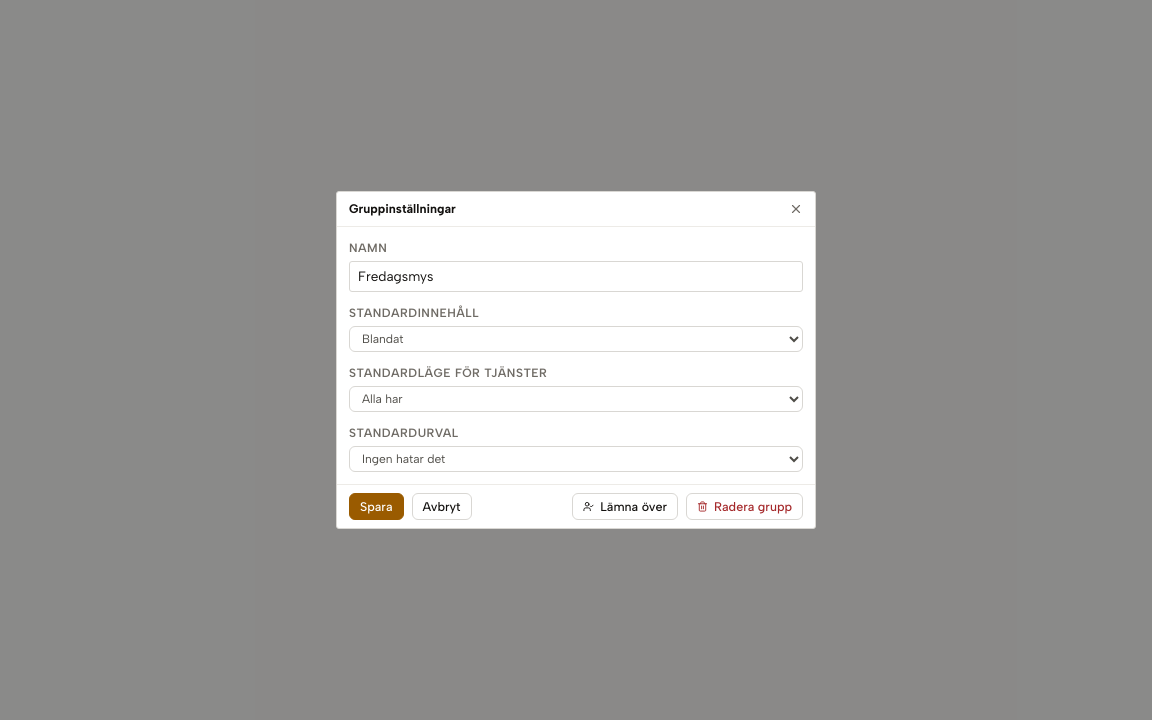
it: GroupSettingsModal — sparningen › visar ett fel och stänger inte när sparningen nekas
The width and height of the screenshot is (1152, 720).
Click the button "Spara" at [376, 507], box [349,493,404,520]
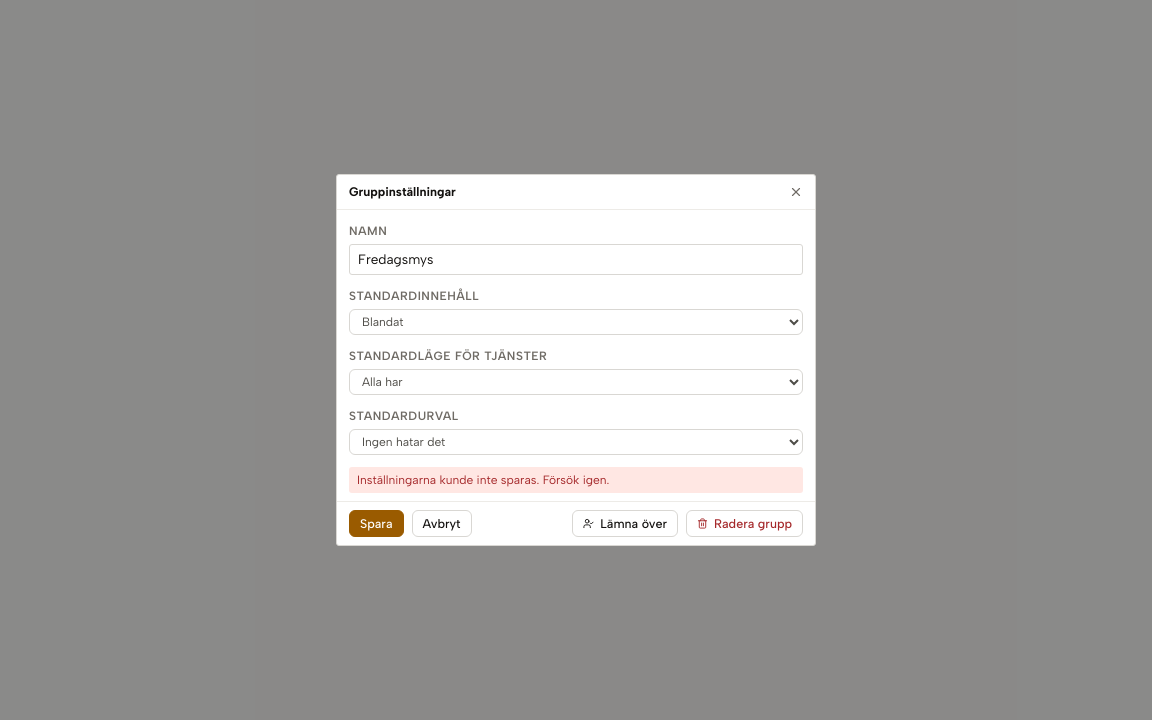
Check: the button "Spara" is enabled, box [349,510,404,537]
Check: the text "Inställningarna kunde inte sparas. Försök igen." is shown, box [349,467,803,493]
